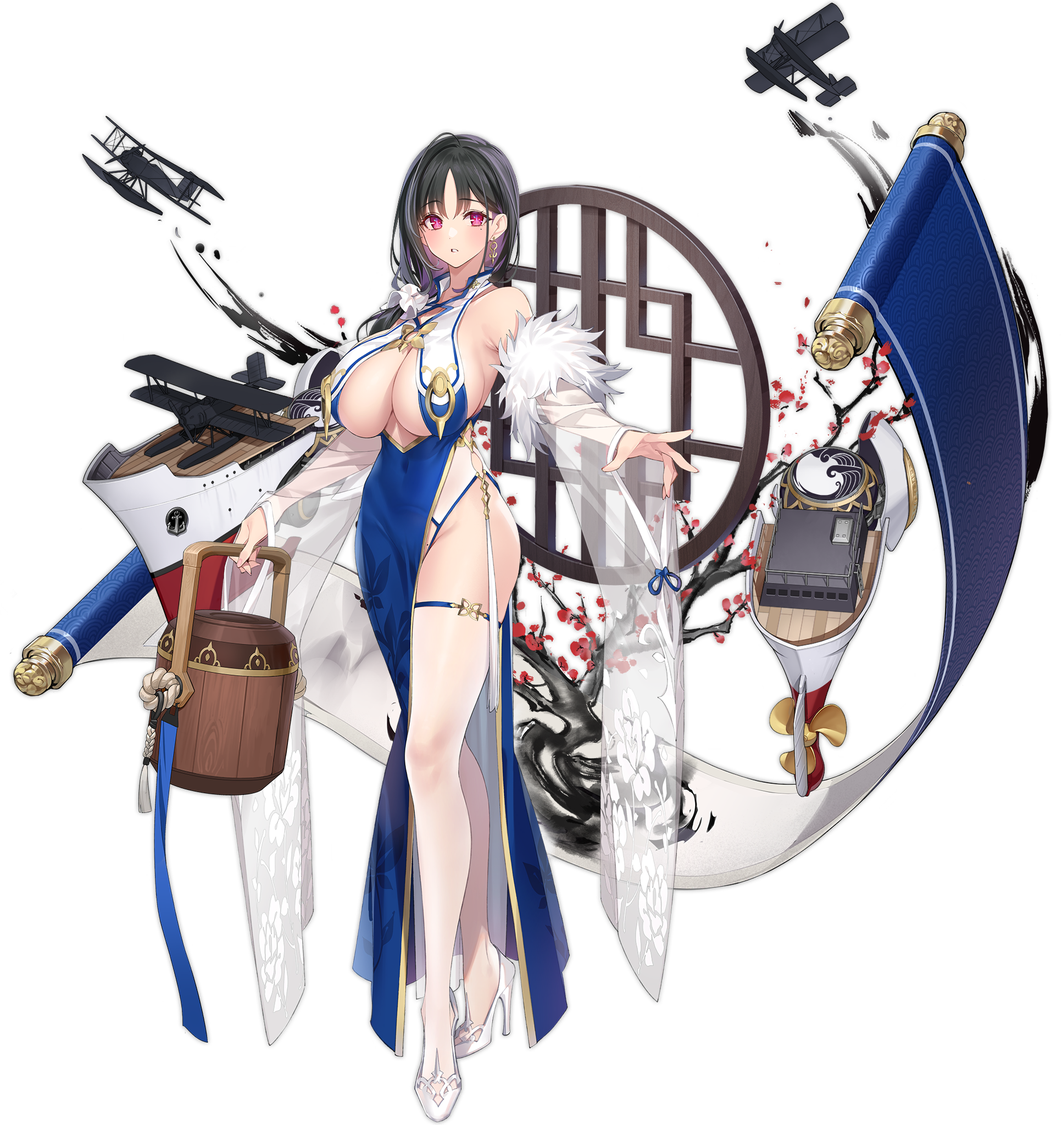person: (3, 109, 564, 1123)
